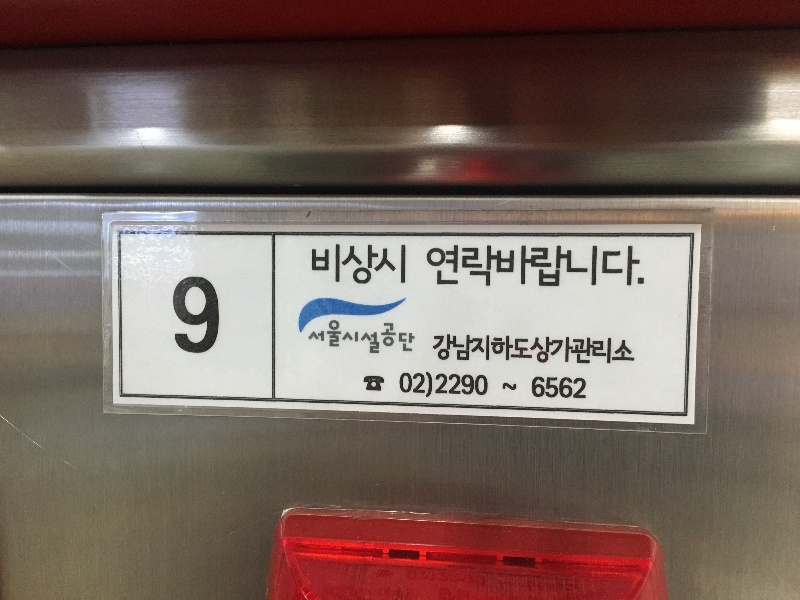text: (177, 277, 192, 355), (193, 277, 208, 355), (209, 277, 220, 355), (433, 241, 448, 296), (449, 241, 464, 296), (465, 241, 480, 296), (481, 241, 496, 296), (497, 241, 512, 296), (513, 241, 528, 296), (529, 241, 544, 296), (545, 241, 560, 296), (561, 241, 576, 296), (577, 241, 592, 296), (593, 241, 608, 296), (609, 241, 624, 296), (625, 241, 640, 296), (641, 241, 656, 296), (305, 239, 320, 290), (321, 239, 336, 290), (337, 239, 352, 290), (353, 239, 368, 290), (369, 239, 384, 290), (385, 239, 400, 290), (401, 239, 415, 290), (321, 315, 336, 362), (337, 315, 352, 362), (353, 315, 368, 362), (369, 315, 384, 362), (385, 315, 400, 362), (401, 315, 416, 362), (625, 325, 641, 368), (433, 325, 448, 368), (449, 325, 464, 368), (465, 325, 480, 368), (481, 325, 496, 368), (497, 325, 512, 368), (513, 325, 528, 368), (529, 325, 544, 368), (545, 325, 560, 368), (561, 325, 576, 368), (577, 325, 592, 368), (593, 325, 608, 368), (609, 325, 624, 368), (421, 241, 432, 296), (308, 315, 320, 362), (545, 372, 560, 408), (561, 372, 576, 408), (401, 368, 416, 403), (417, 368, 432, 403), (433, 368, 448, 403), (449, 368, 464, 403), (465, 368, 480, 403), (481, 368, 496, 403), (530, 372, 544, 408), (499, 371, 512, 405), (577, 372, 589, 408), (513, 371, 524, 405), (392, 368, 400, 403), (426, 325, 432, 368), (417, 315, 421, 362), (174, 277, 176, 355), (657, 241, 659, 296)
